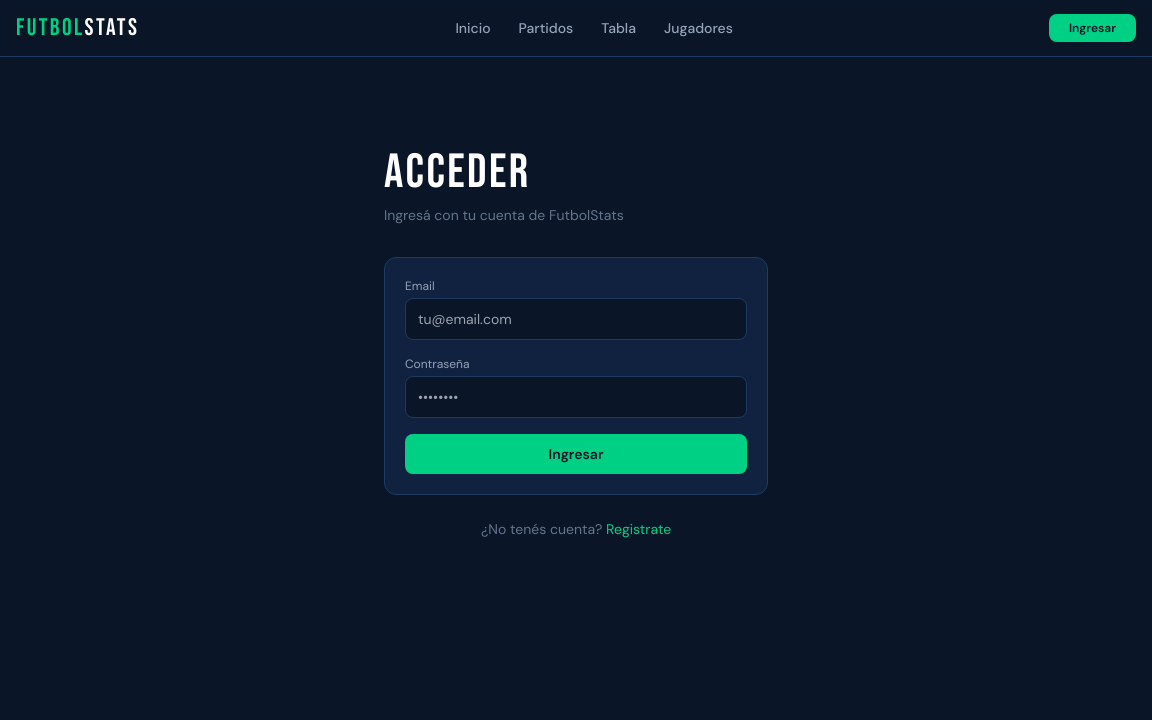
Test: Nivel 2 — Interacciones y formularios › clear() › clear() y type() permiten reemplazar el valor de un campo
This screenshot has width=1152, height=720.
Type "valor-incorrecto" into the field with placeholder "tu@email.com" at x=576, y=319, box [405,298,747,340]
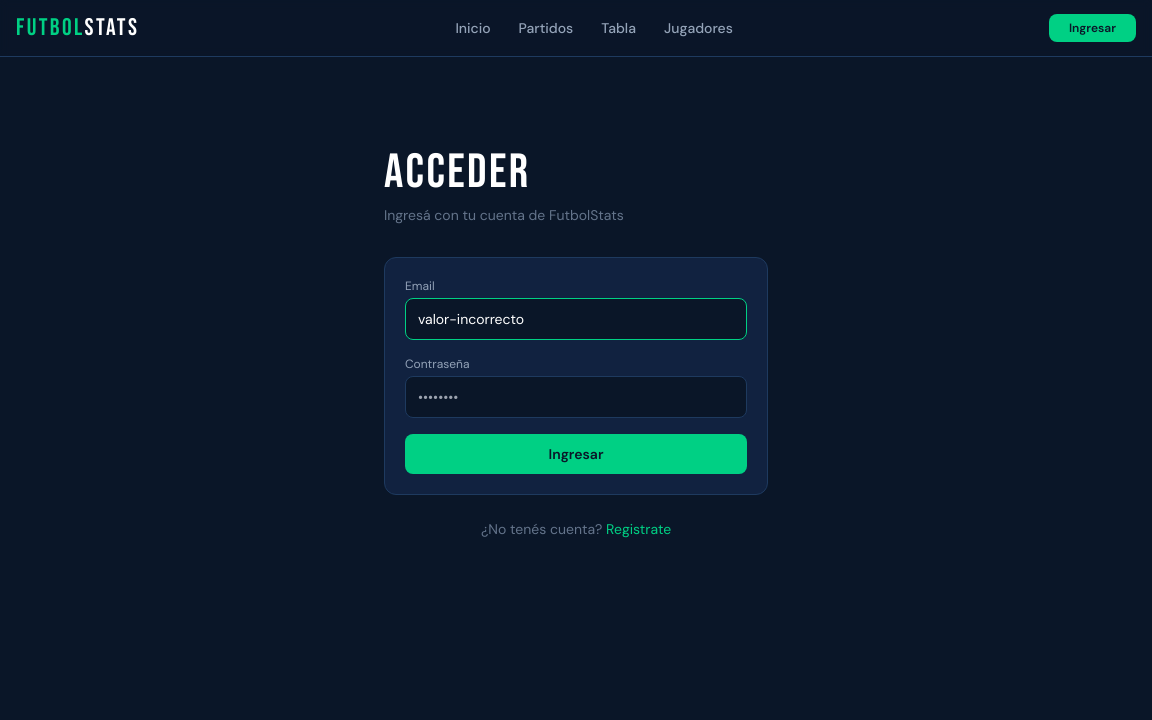
Replace the text in the field with "admin@futbolstats.com" at x=576, y=319, box [405,298,747,340]
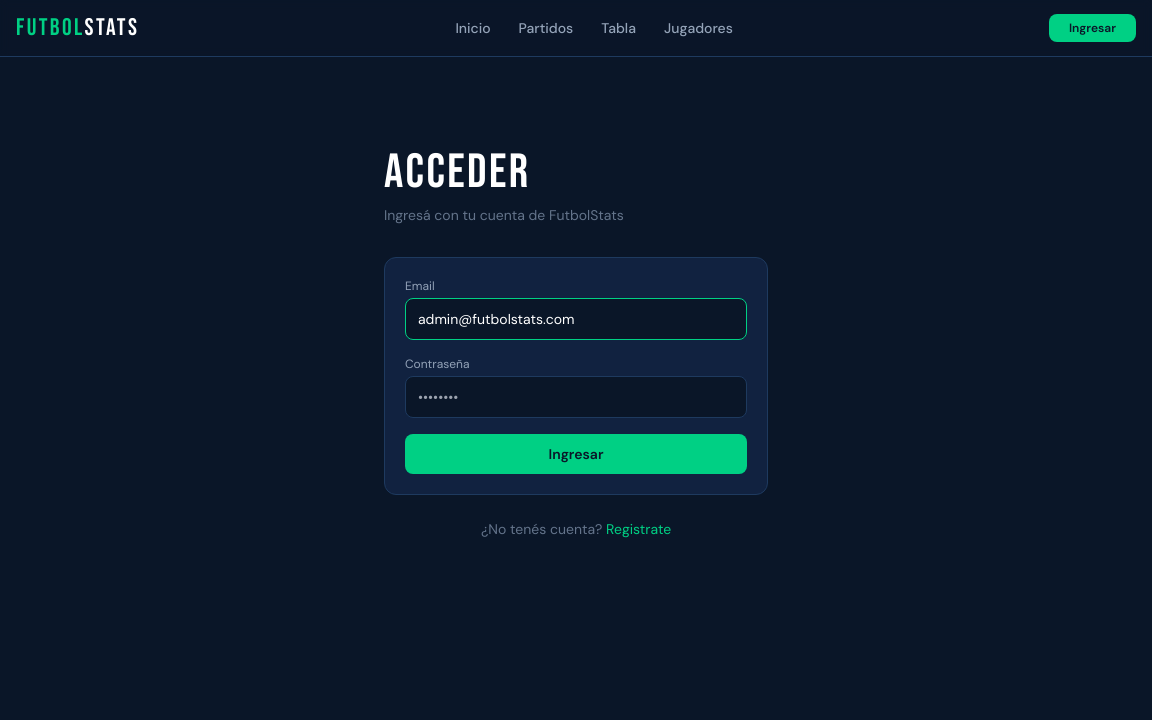
Now the field holds "admin@futbolstats.com", box [405,298,747,340]
